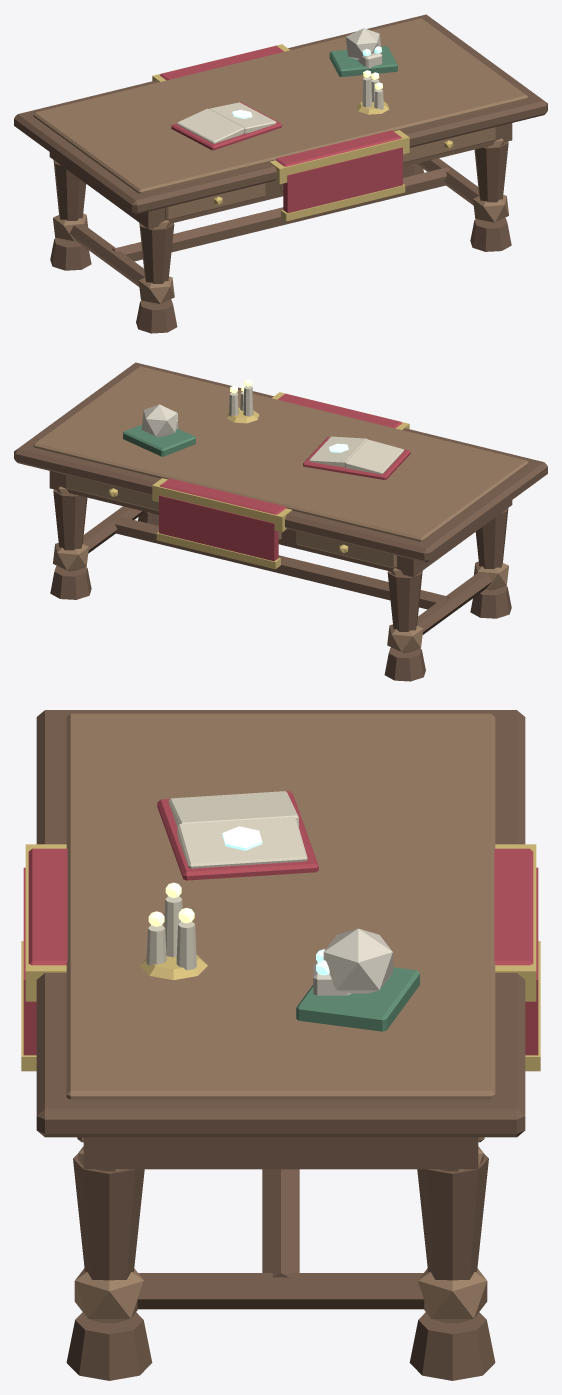
The model's file is castle_table.glb.
3 renders of one model, top to bottom at view 1: azimuth 30°, elevation 25°; view 2: azimuth 150°, elevation 25°; view 3: azimuth 270°, elevation 25°, orthographic. The views are drawn at different scales.
Visible parts, largest first — view 1: Castle_Table; view 2: Castle_Table; view 3: Castle_Table.
Boxes of the visible parts, x1,y1,x2,y2 form: Castle_Table: (14,14,547,333); Castle_Table: (14,362,547,681); Castle_Table: (21,710,540,1380).
Size of the model in its own units: 2.87 by 1.24 by 1.55.
